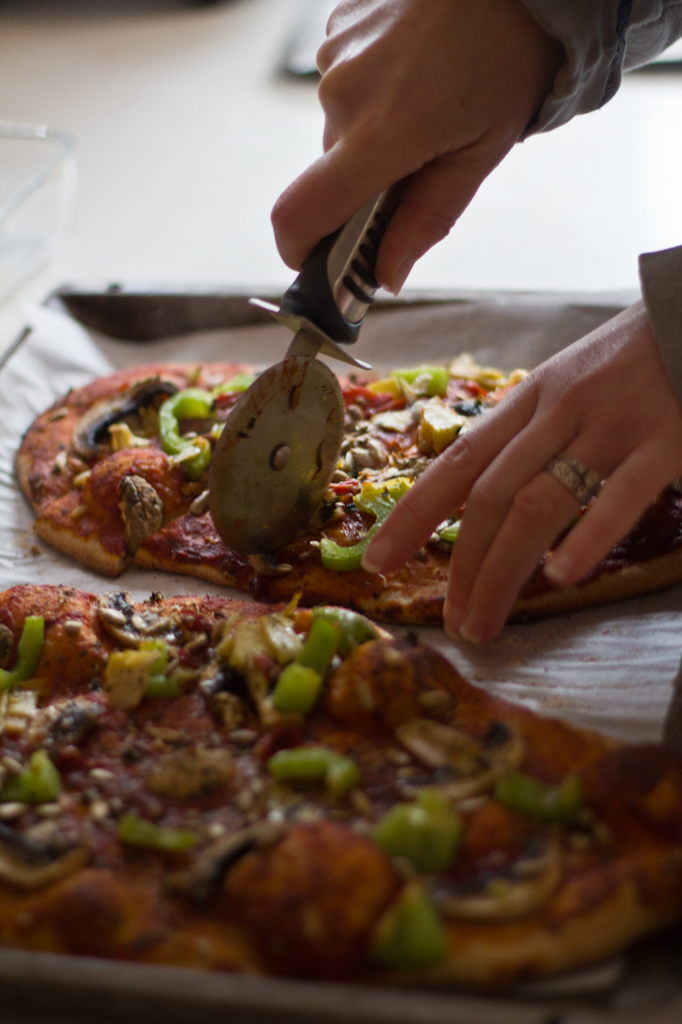pizza: (0, 577, 681, 987), (8, 357, 681, 624)
